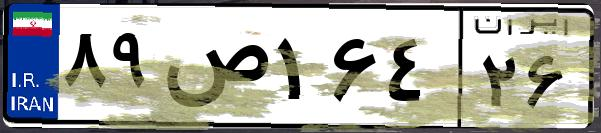1: (270, 28, 330, 110)
2: (475, 38, 525, 113)
4: (385, 28, 445, 110)
6: (330, 28, 385, 110), (525, 38, 570, 115)
8: (57, 26, 110, 100)
9: (110, 28, 158, 98)
ص: (158, 20, 270, 120)
